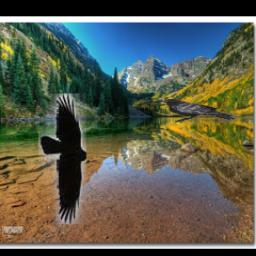Crow: (39, 94, 87, 224), (157, 99, 236, 123)
